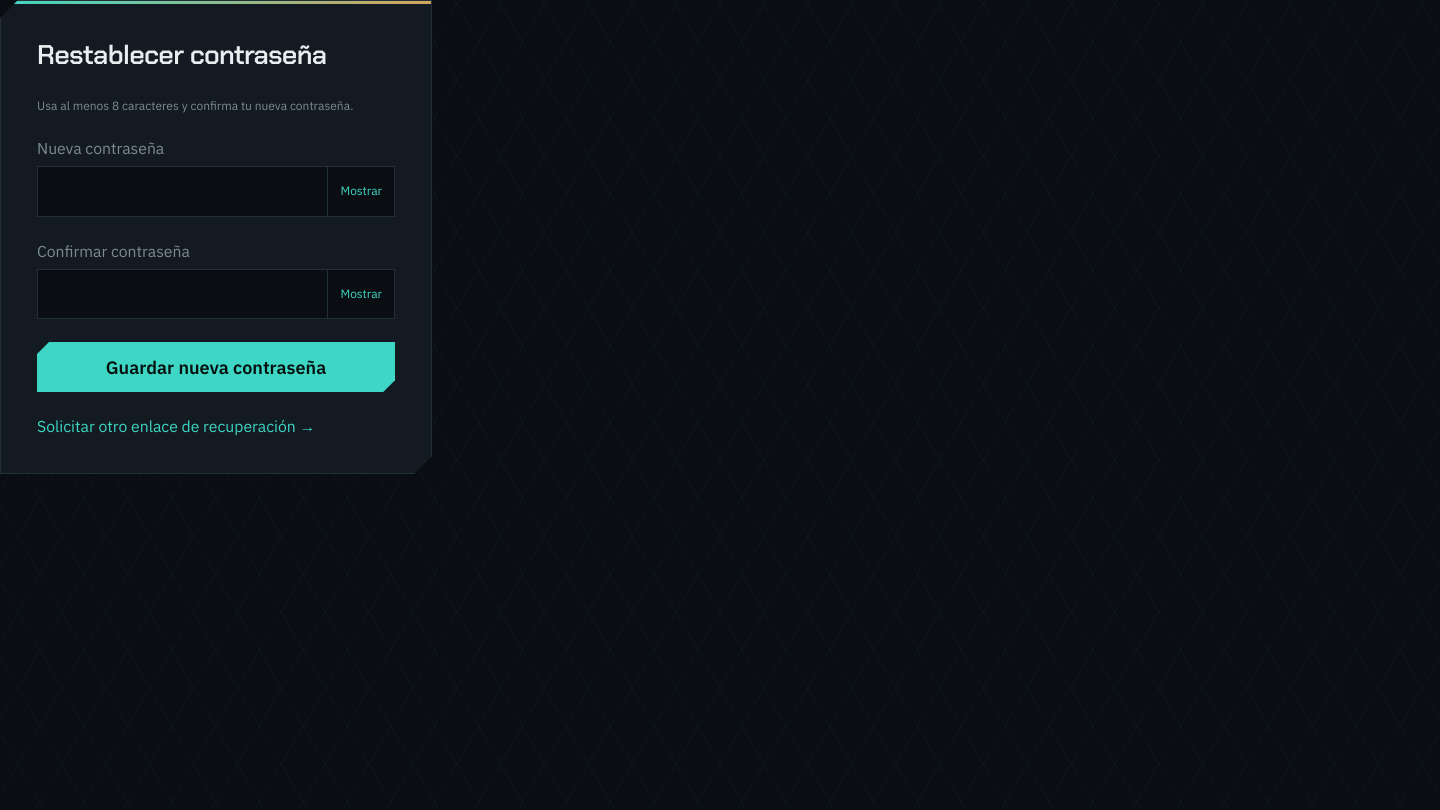
Test case: ResetPasswordForm › restablece la contraseña y redirige a /login
Type "newpassword123" into the password field labelled "Nueva contraseña Mostrar".
click(182, 192); type("newpassword123")  # box [37,166,327,217]
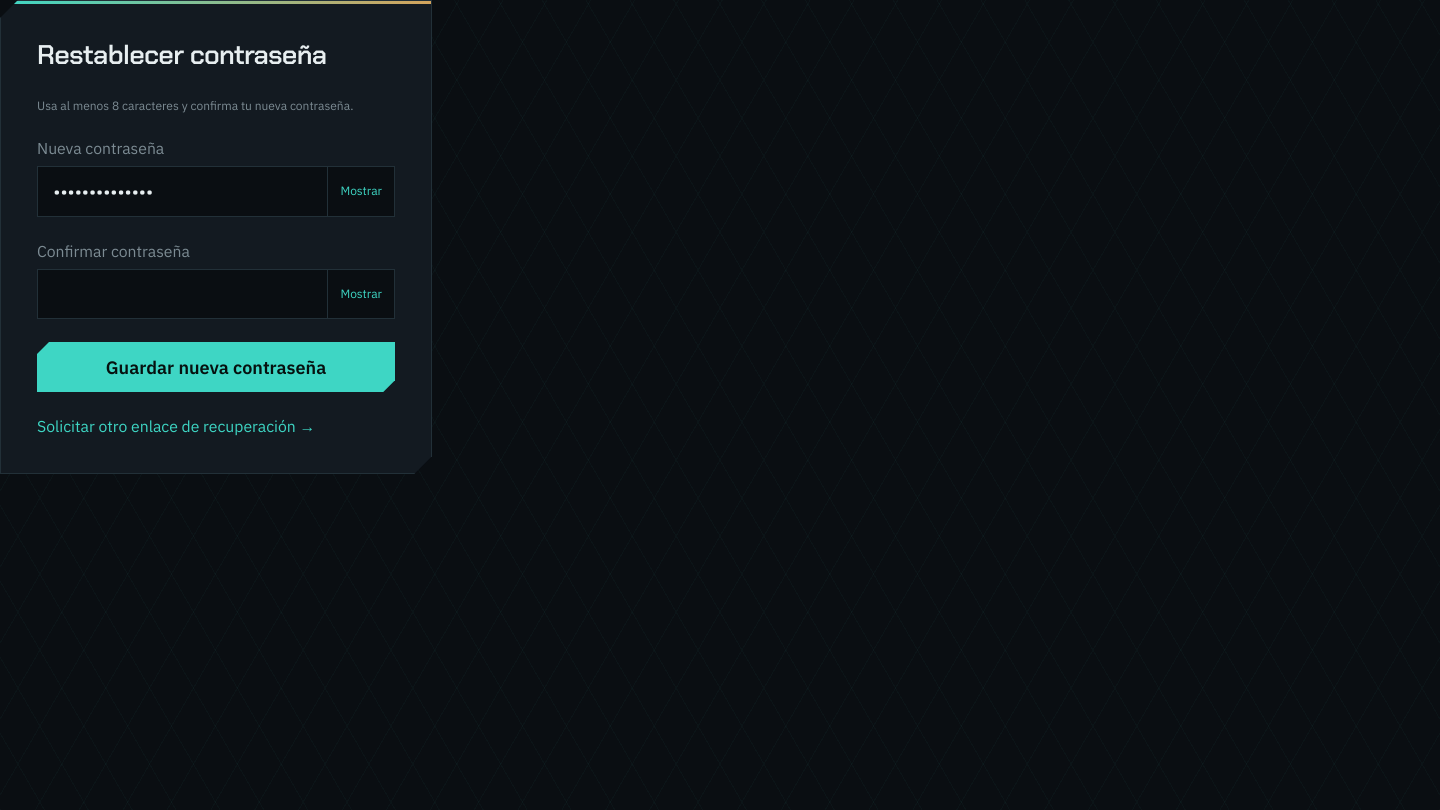
Type "newpassword123" into the password field labelled "Confirmar contraseña Mostrar".
click(182, 294); type("newpassword123")  # box [37,269,327,319]
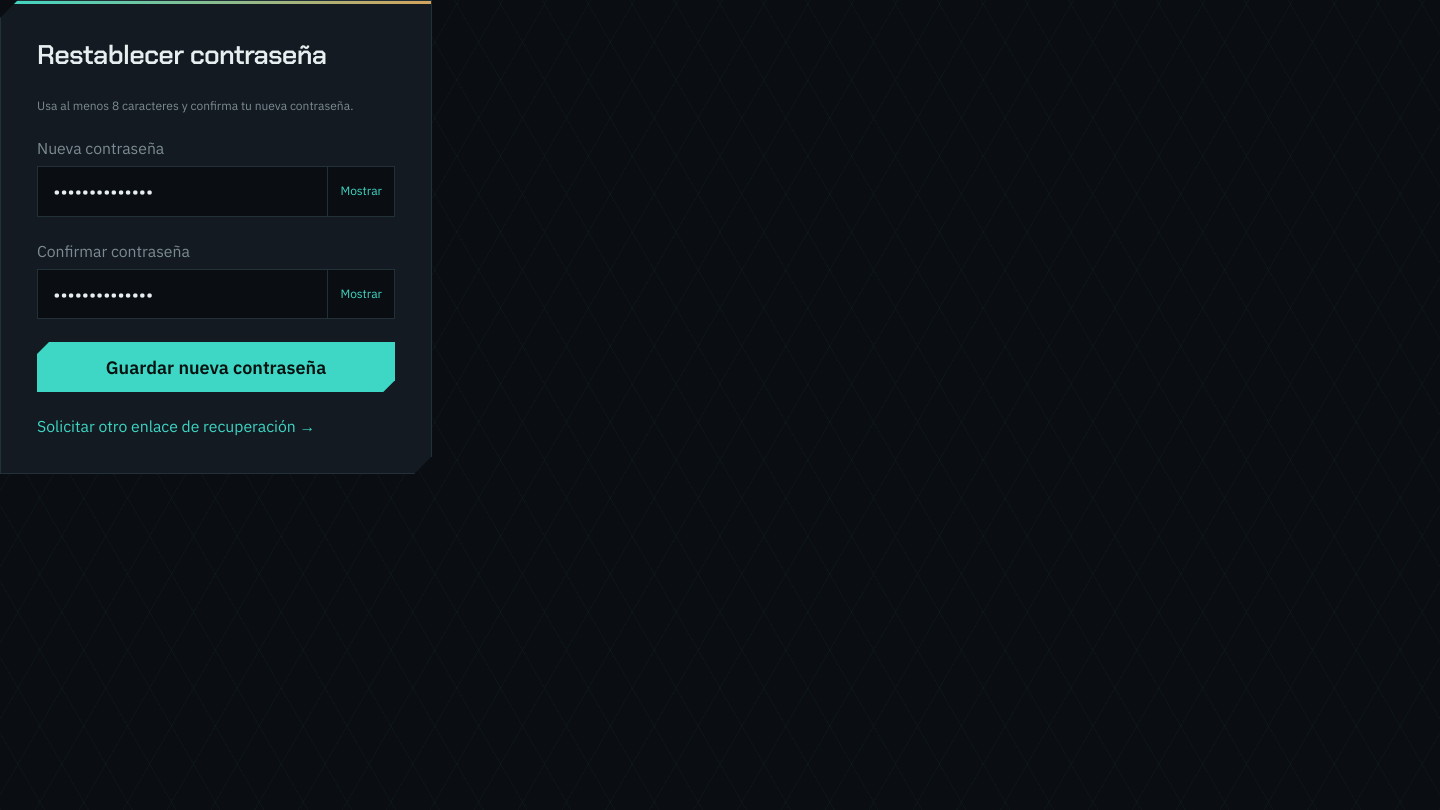
Click the button "Guardar nueva contraseña".
click(216, 367)  # box [37,342,395,392]
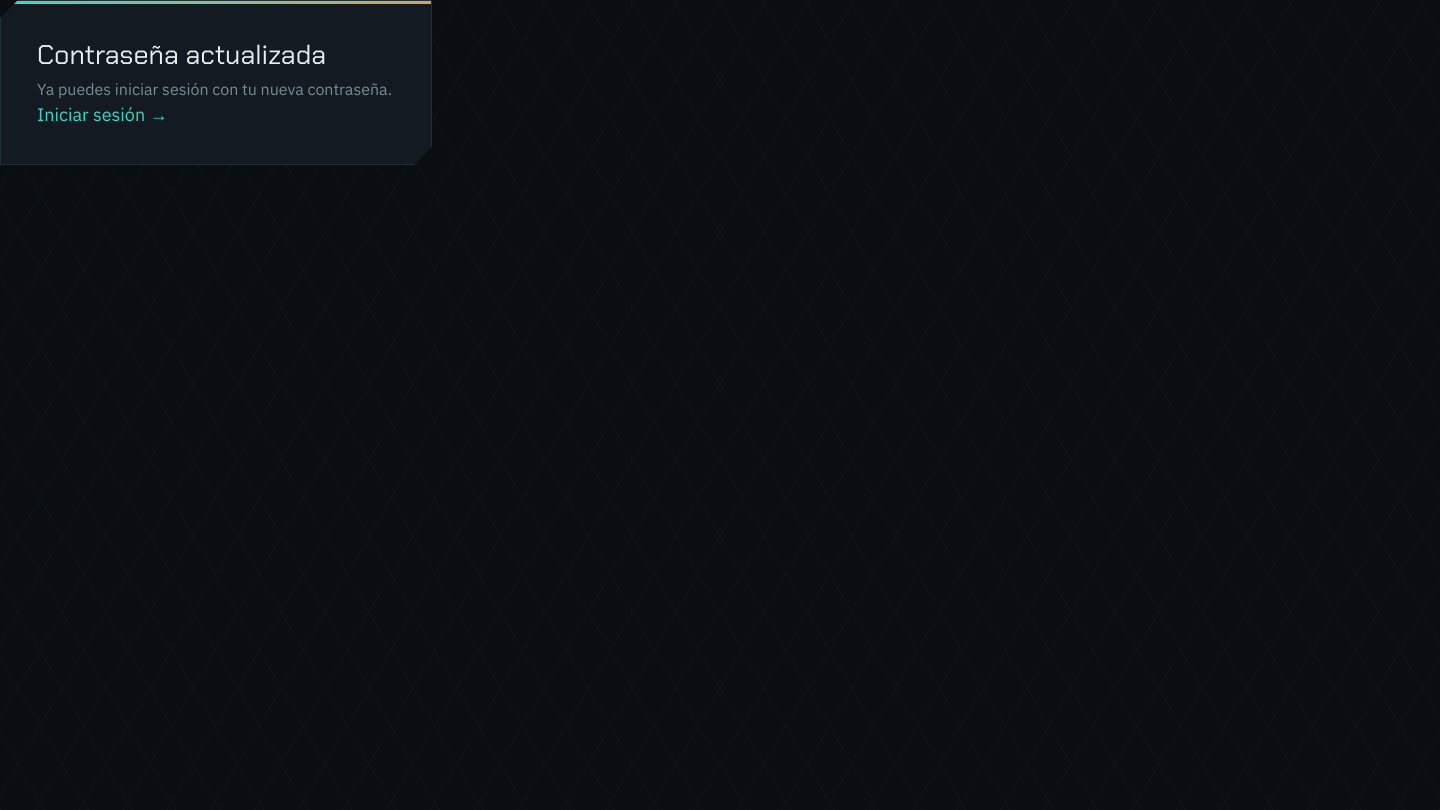
Check: the heading "Contraseña actualizada" is shown, box [37,37,326,72]
